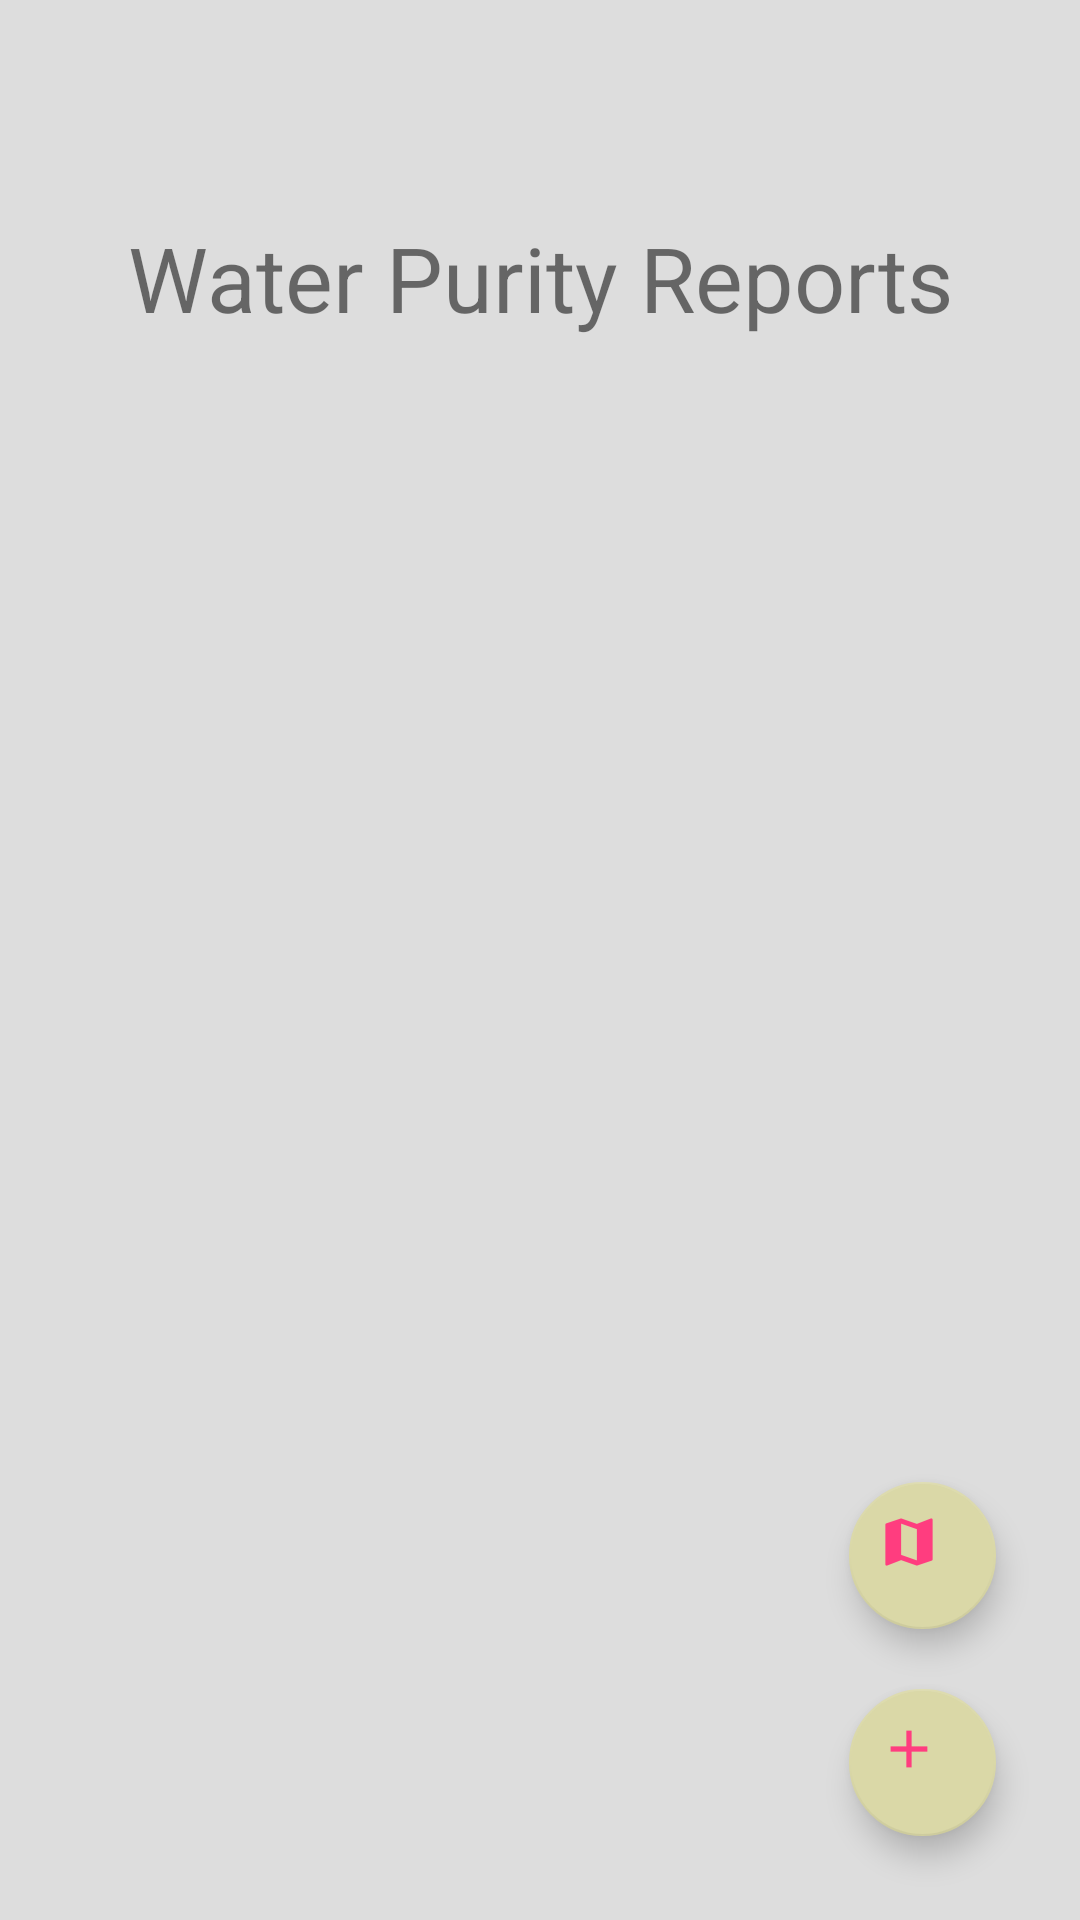

Named icons in this screenshot (1080 x 1920) and their centers, (x,y):
map: (922,1555)
plus: (922,1762)
